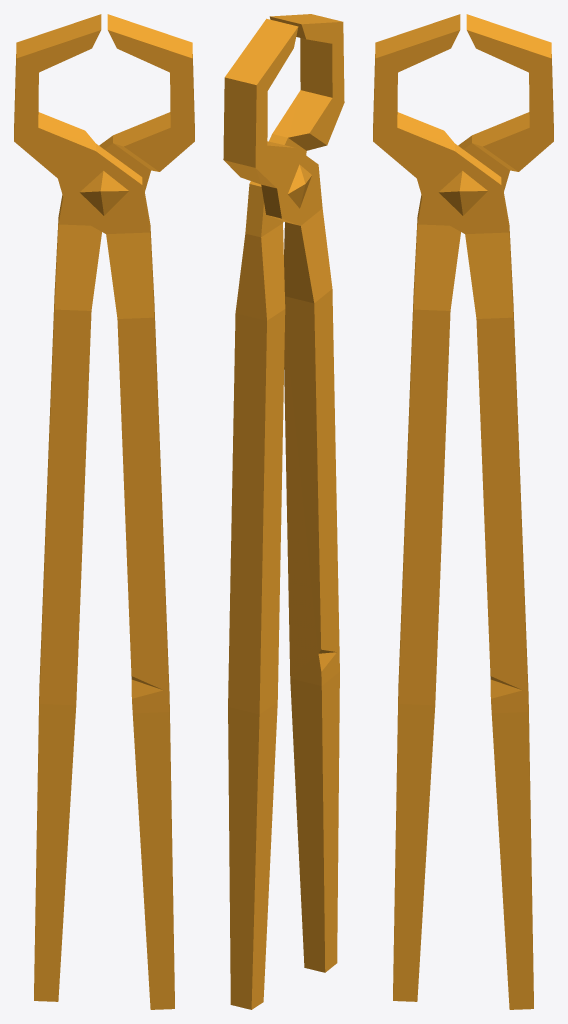
Rendered from SM_Tongs_Blacksmith_A.fbx.
3 views of the same model, side by side, from view 1: azimuth 90°, elevation 25°; view 2: azimuth 150°, elevation 25°; view 3: azimuth 270°, elevation 25° (orthographic).
Visible parts, largest first — view 1: tongs-blacksmith-a; view 2: tongs-blacksmith-a; view 3: tongs-blacksmith-a.
Part boxes in pixels (box(x1,y1,x2,y2)): tongs-blacksmith-a: box(14, 14, 194, 1009); tongs-blacksmith-a: box(223, 14, 344, 1009); tongs-blacksmith-a: box(373, 14, 553, 1009).
Size of the model in its own units: 0.0303 by 0.5833 by 0.0976.
